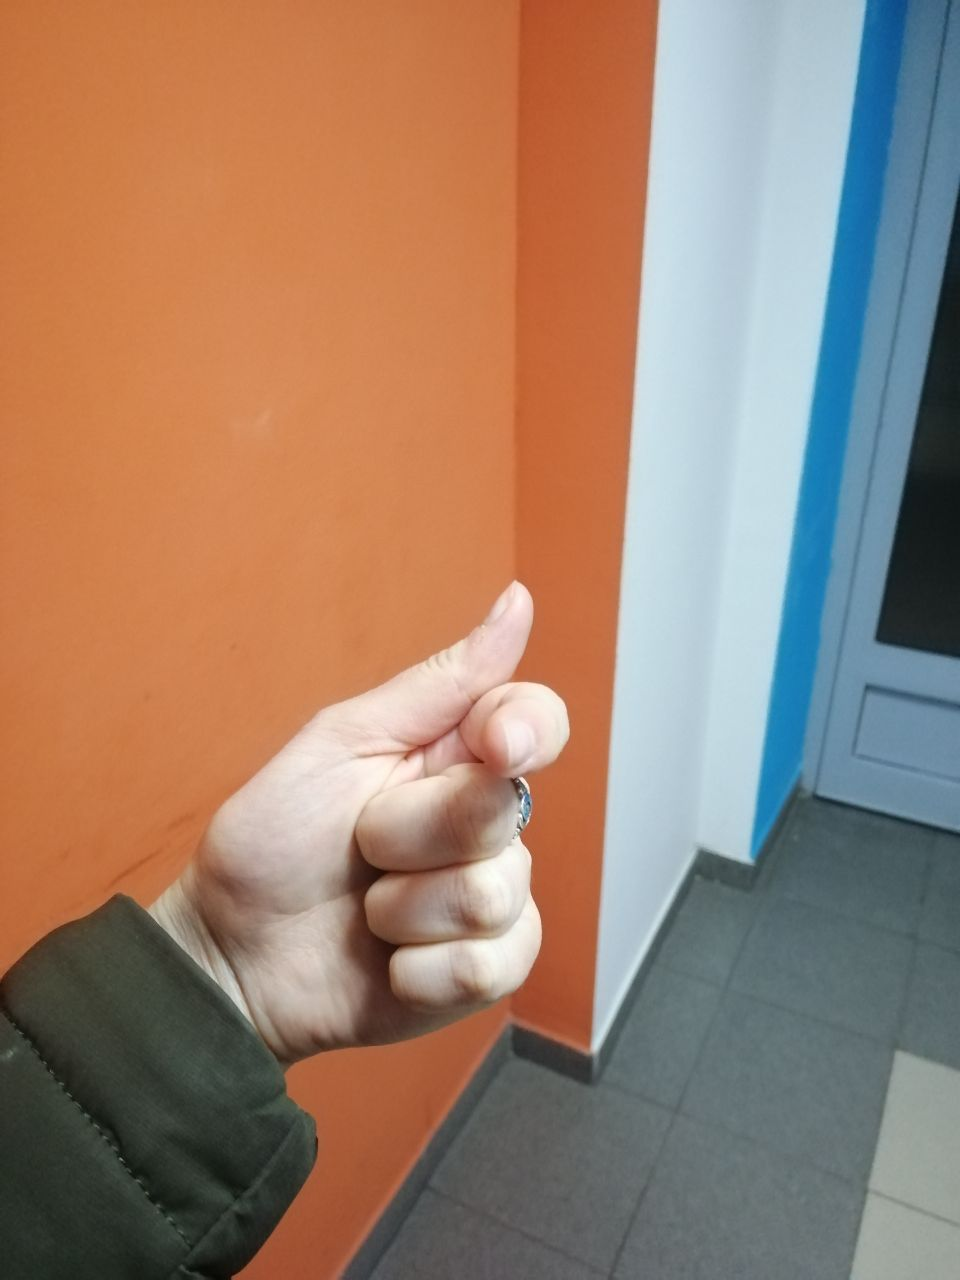hand: (225, 608, 551, 984)
